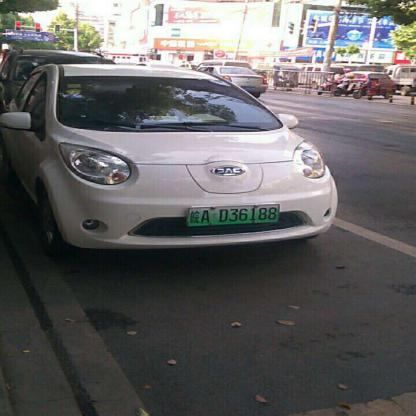lp: (187, 204, 279, 225)
